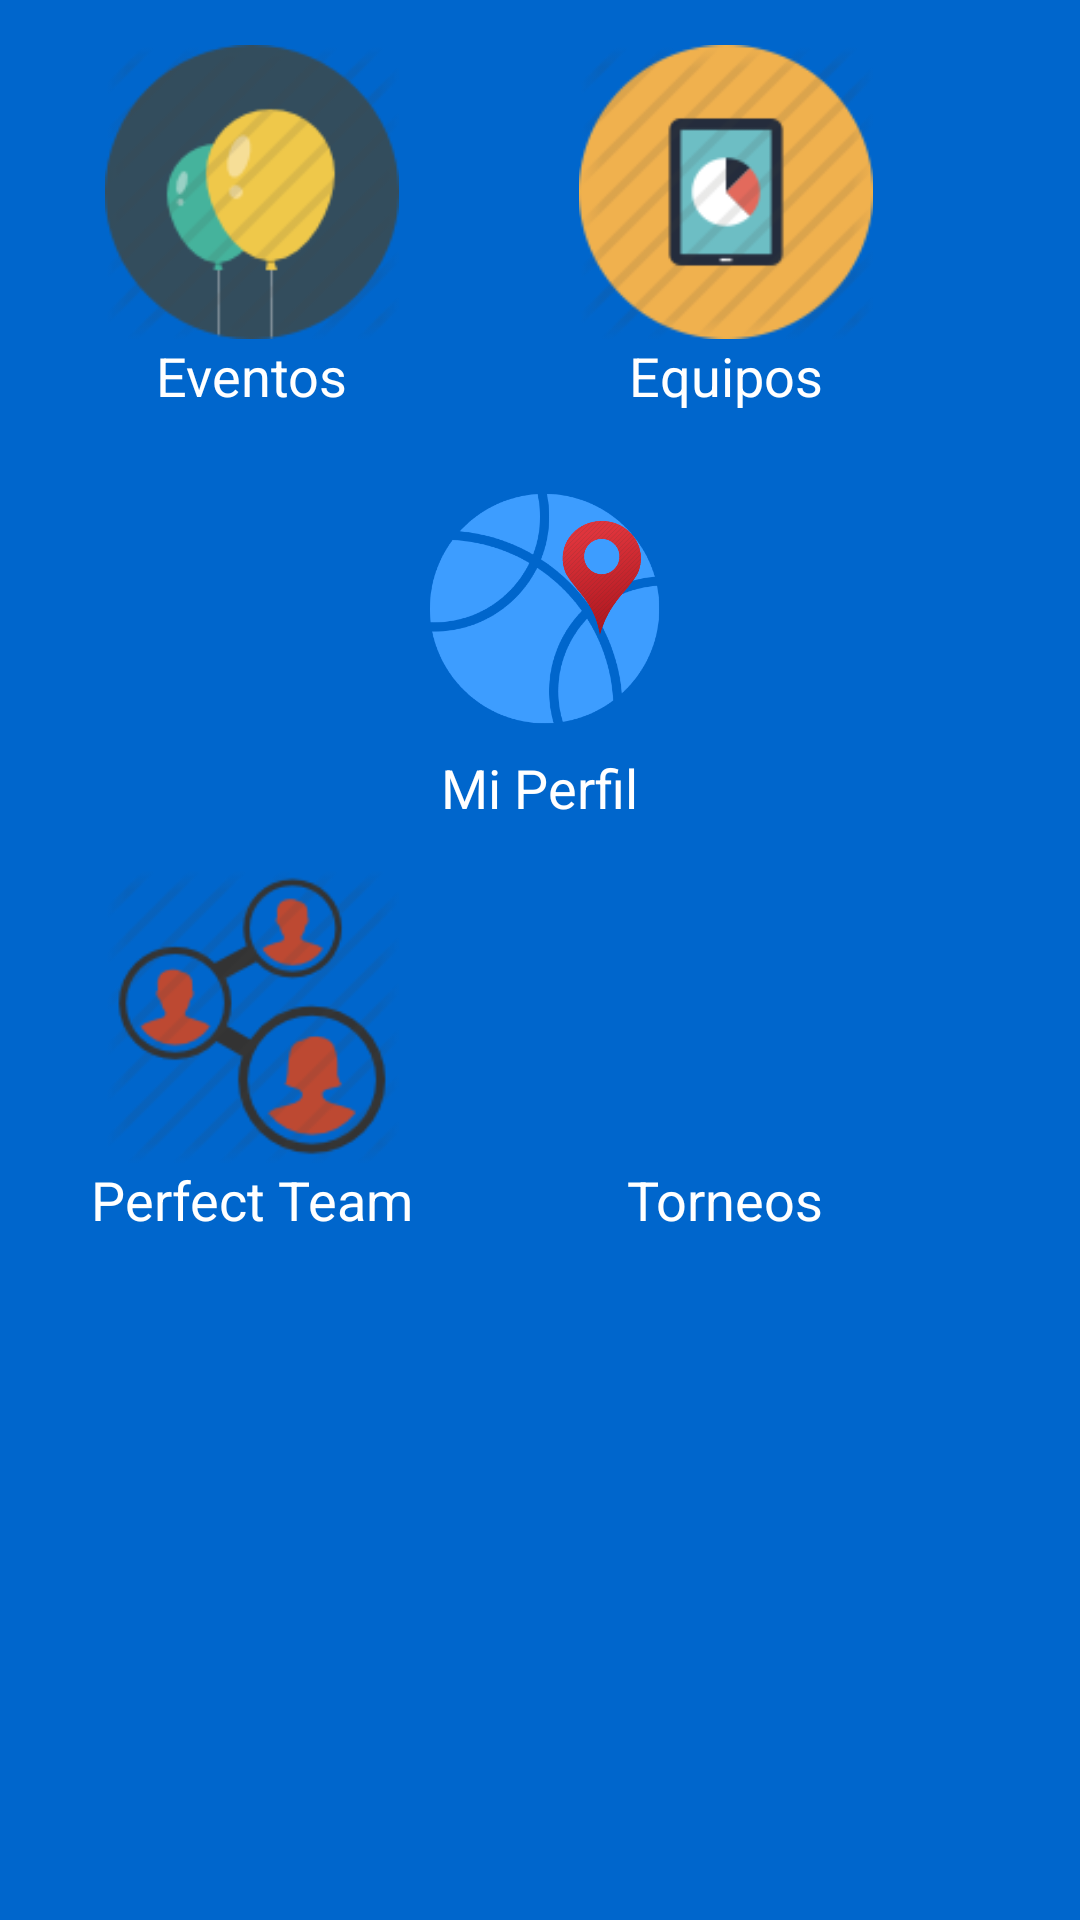

Icons on this 1080px×1920px Android screen, each with the point to tap as [x,y]:
create team: [252,1016]
